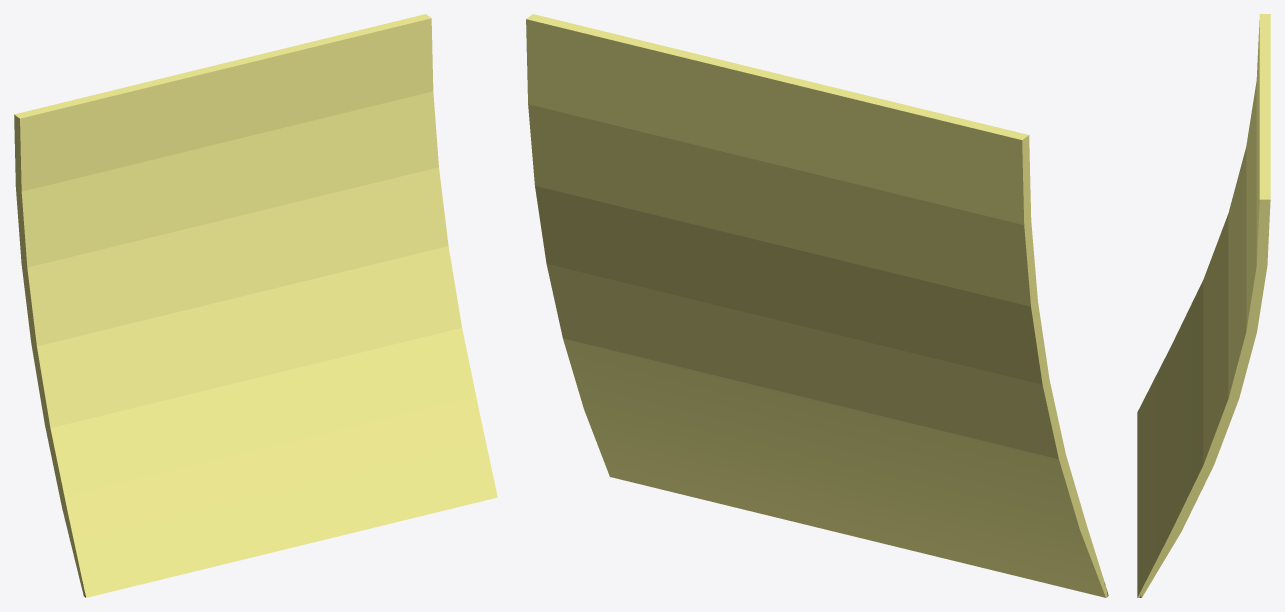
The model's file is Posit.fbx.
3 views of the same model, side by side, from view 1: azimuth 30°, elevation 25°; view 2: azimuth 150°, elevation 25°; view 3: azimuth 270°, elevation 25° (orthographic). The views are drawn at different scales.
Visible parts, largest first — view 1: posit; view 2: posit; view 3: posit.
Boxes of the visible parts, bbox=[...] form: posit: bbox=[14, 14, 497, 597]; posit: bbox=[526, 14, 1108, 597]; posit: bbox=[1137, 14, 1270, 597].
Size of the model in its own units: 9.34 by 9.34 by 2.83.
